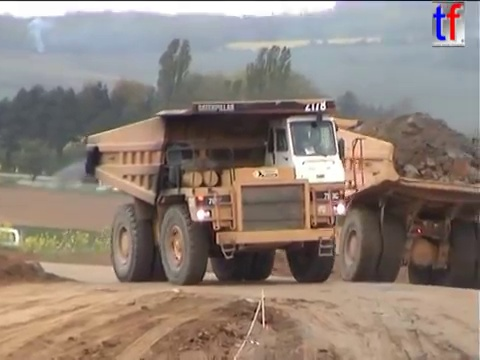truck: (79, 94, 367, 287), (241, 112, 480, 291), (1, 224, 21, 267)
